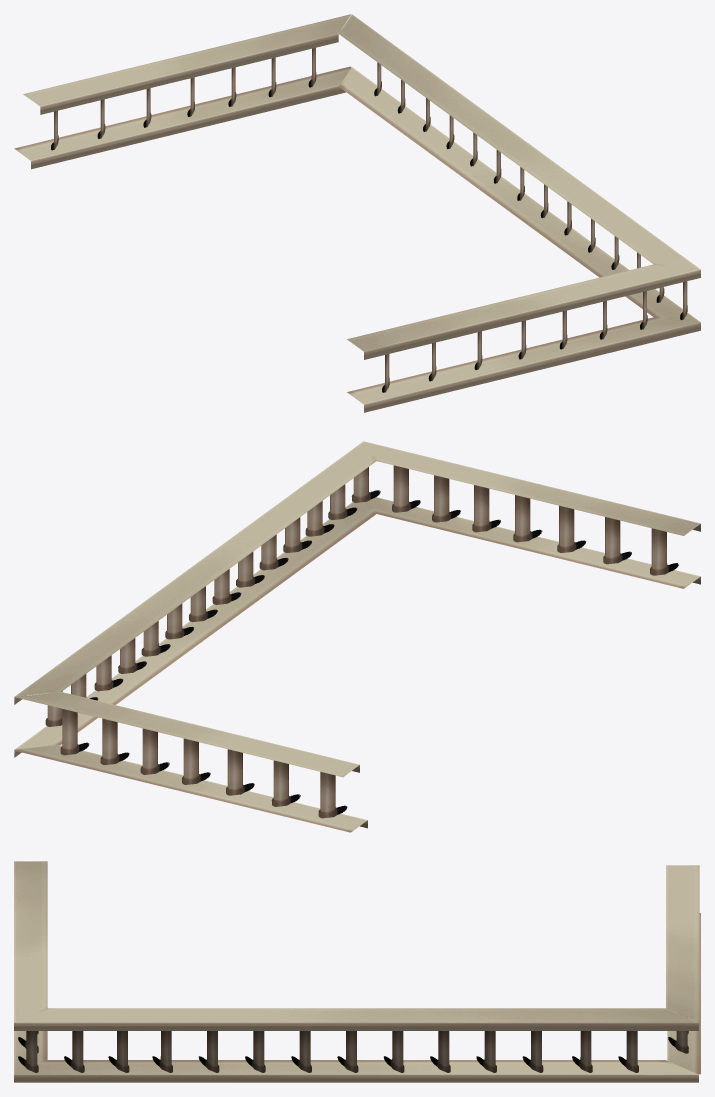
Rendered from K1_oldbalustrade.FBX.
The picture shows the model from 3 angles, top to bottom: view 1: azimuth 30°, elevation 25°; view 2: azimuth 150°, elevation 25°; view 3: azimuth 270°, elevation 25°; orthographic projection.
Visible parts, largest first — view 1: cs_oldbalustrade, oldbalustrade02; view 2: cs_oldbalustrade, oldbalustrade02; view 3: cs_oldbalustrade, oldbalustrade02.
Boxes of the visible parts, bbox=[...] form: cs_oldbalustrade: bbox=[14, 14, 700, 412]; oldbalustrade02: bbox=[51, 48, 687, 392]; cs_oldbalustrade: bbox=[14, 441, 700, 832]; oldbalustrade02: bbox=[45, 465, 678, 818]; cs_oldbalustrade: bbox=[14, 861, 700, 1082]; oldbalustrade02: bbox=[18, 1013, 688, 1072].
Bounding box in the file's own units: 123 × 21.25 × 221.
